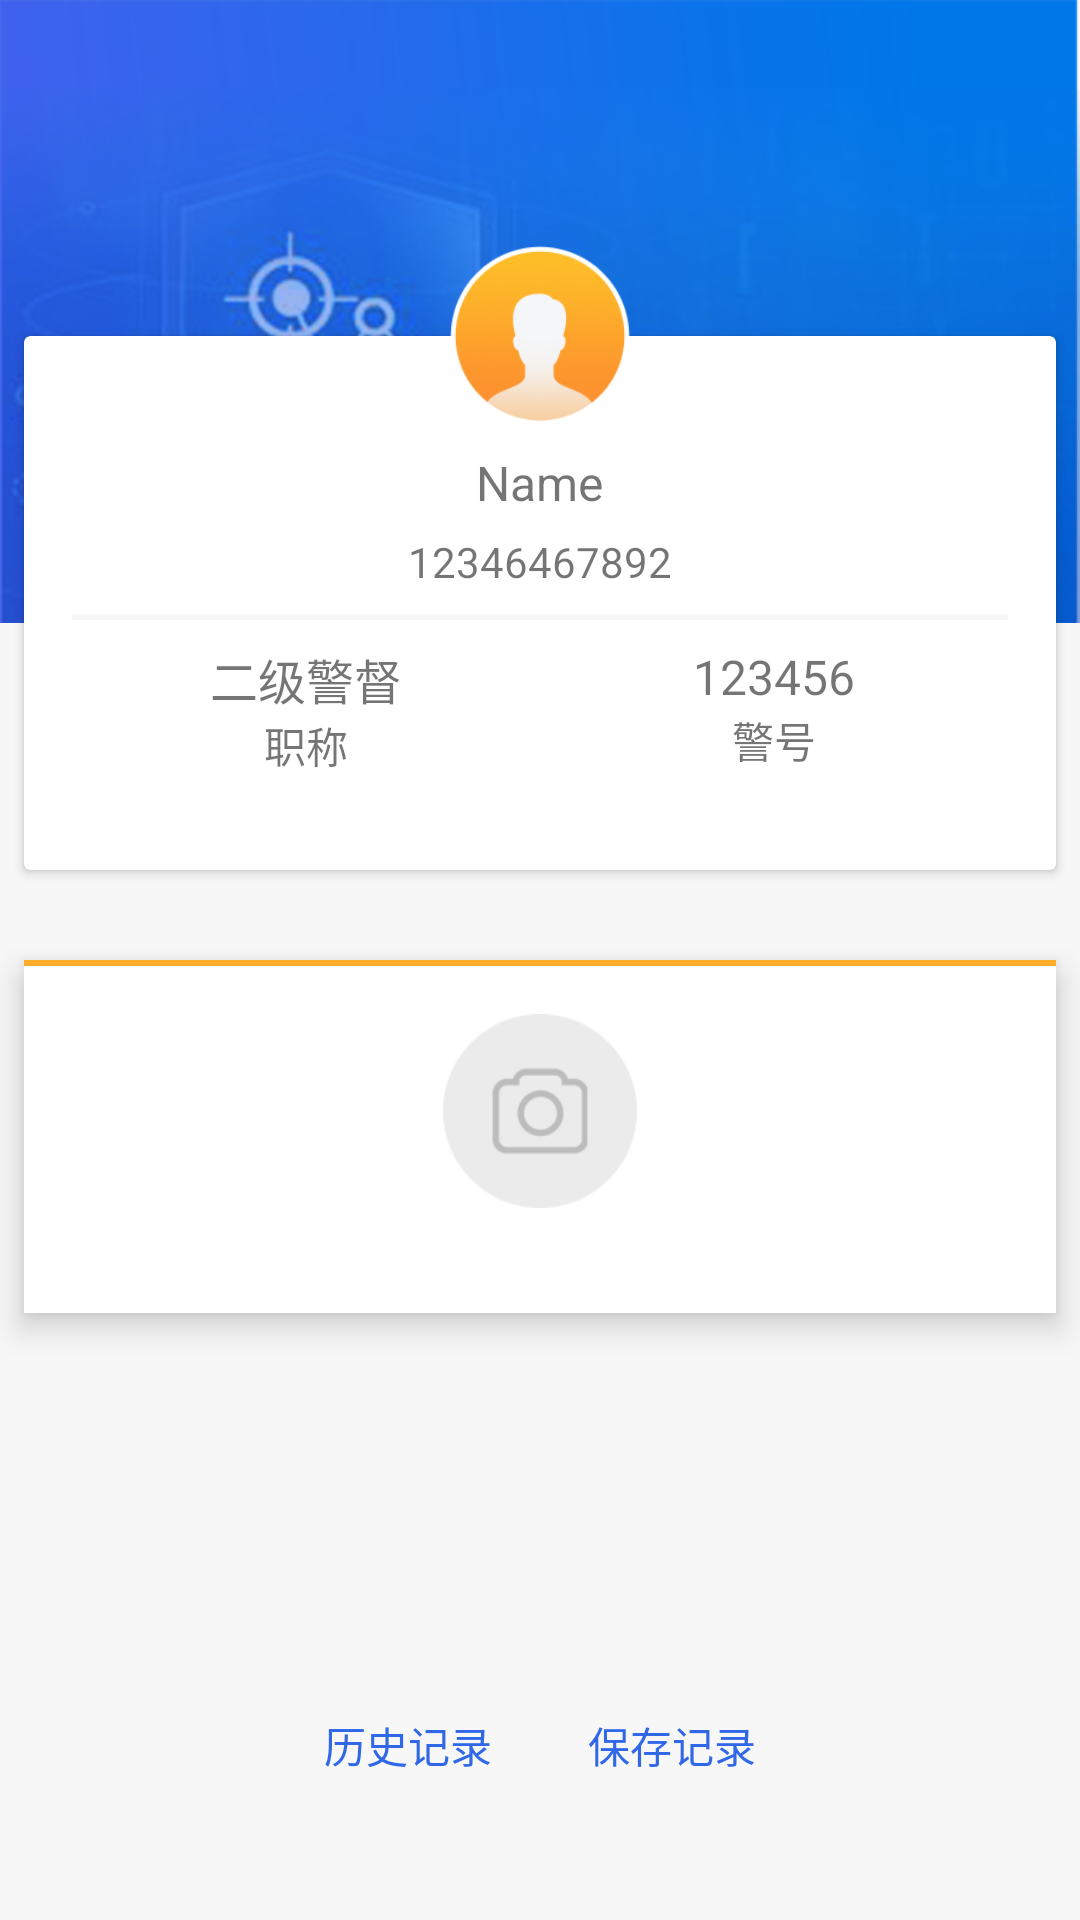

Icons on this 1080*1920 Android screen, each with the point to tap as (x,y):
camera: (540,1111)
